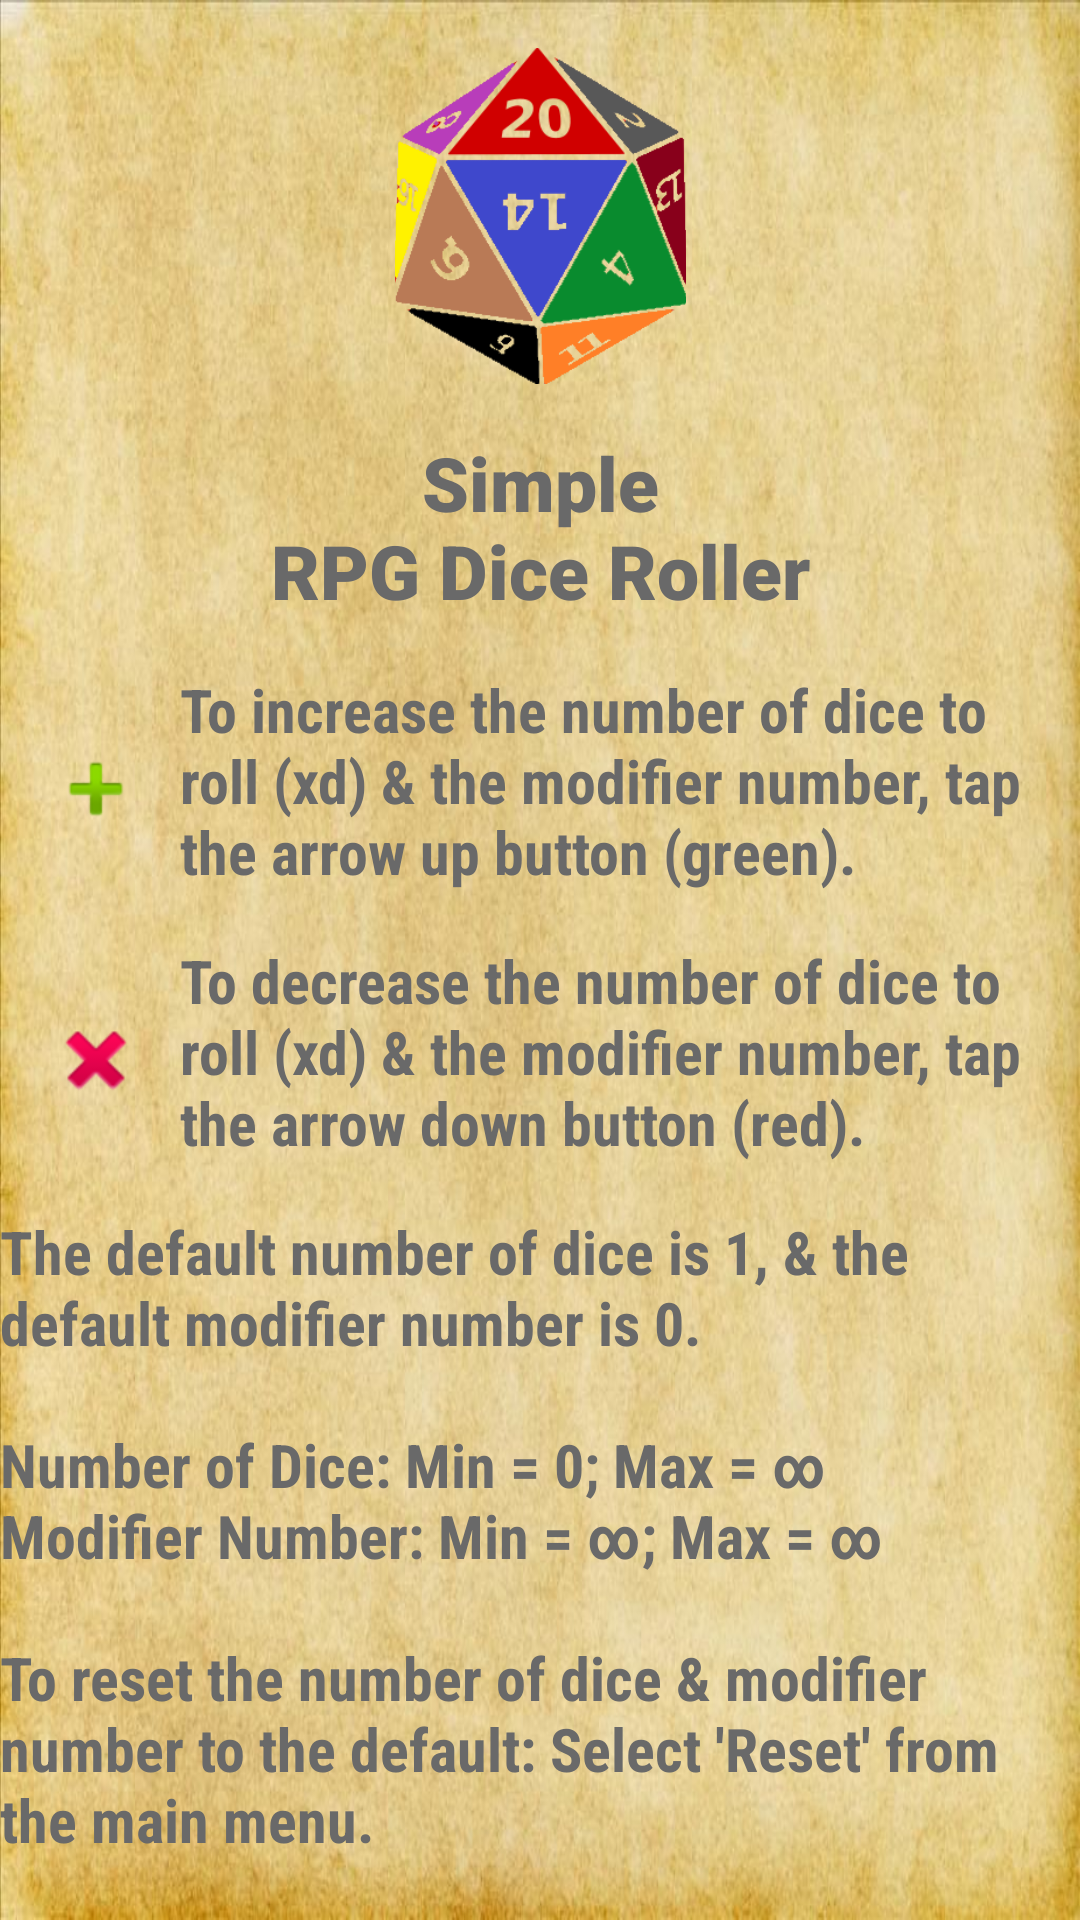

Screen size 1080px x 1920px. Icon name, then its box in pixels as (x1, y1, x2, y2):
plus: (69, 762, 138, 837)
